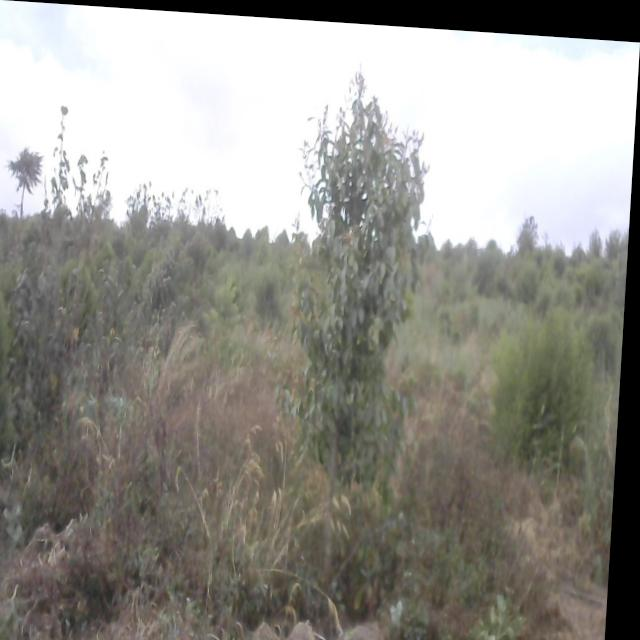Hass Avocado: (270, 56, 439, 577)
cedrus: (489, 278, 605, 469), (0, 234, 19, 498), (5, 133, 49, 219)
